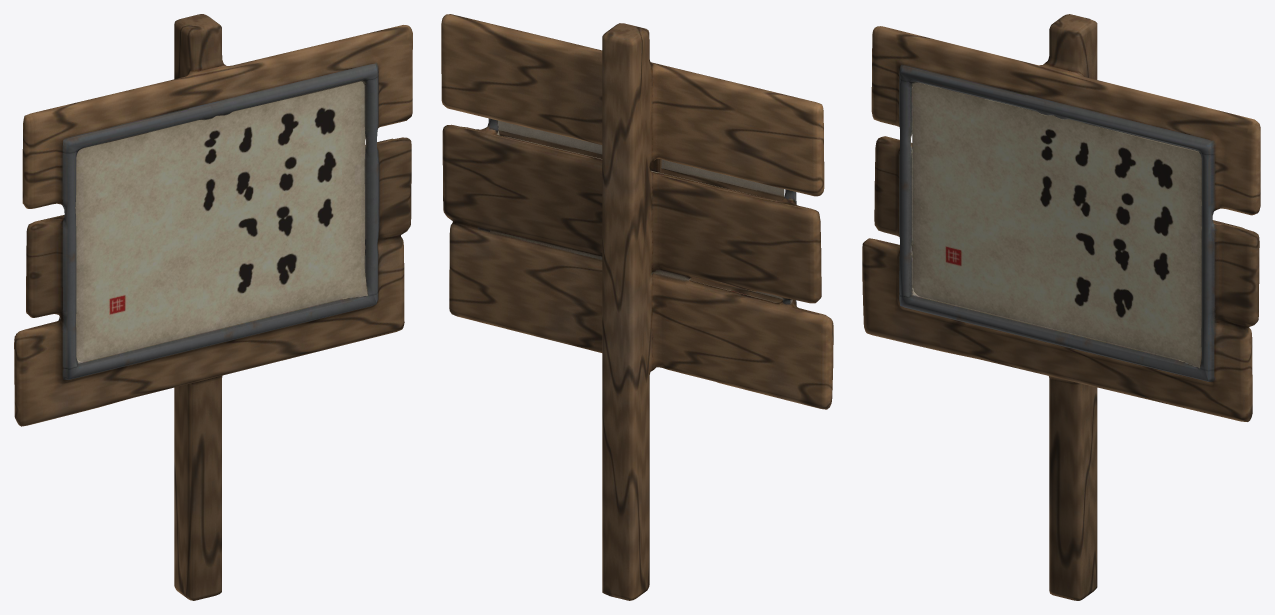
File: signpost.glb
The picture shows the model from 3 angles, left to right: view 1: azimuth 30°, elevation 25°; view 2: azimuth 150°, elevation 25°; view 3: azimuth 330°, elevation 25°; orthographic projection.
Parts seen in each view (by area): view 1: signpost_notice_lod0; view 2: signpost_notice_lod0; view 3: signpost_notice_lod0.
Boxes of the visible parts, x1,y1,x2,y2 form: signpost_notice_lod0: [14, 14, 412, 600]; signpost_notice_lod0: [441, 14, 833, 600]; signpost_notice_lod0: [862, 14, 1260, 600].
Size of the model in its own units: 1.17 by 1.62 by 0.162.
Materials: 1 (1 with a texture image).
